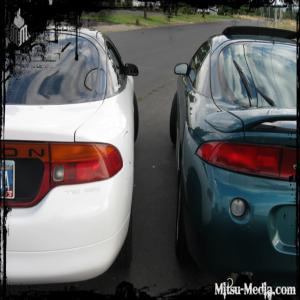Vehicle-registration-plate: (1, 161, 15, 201)
